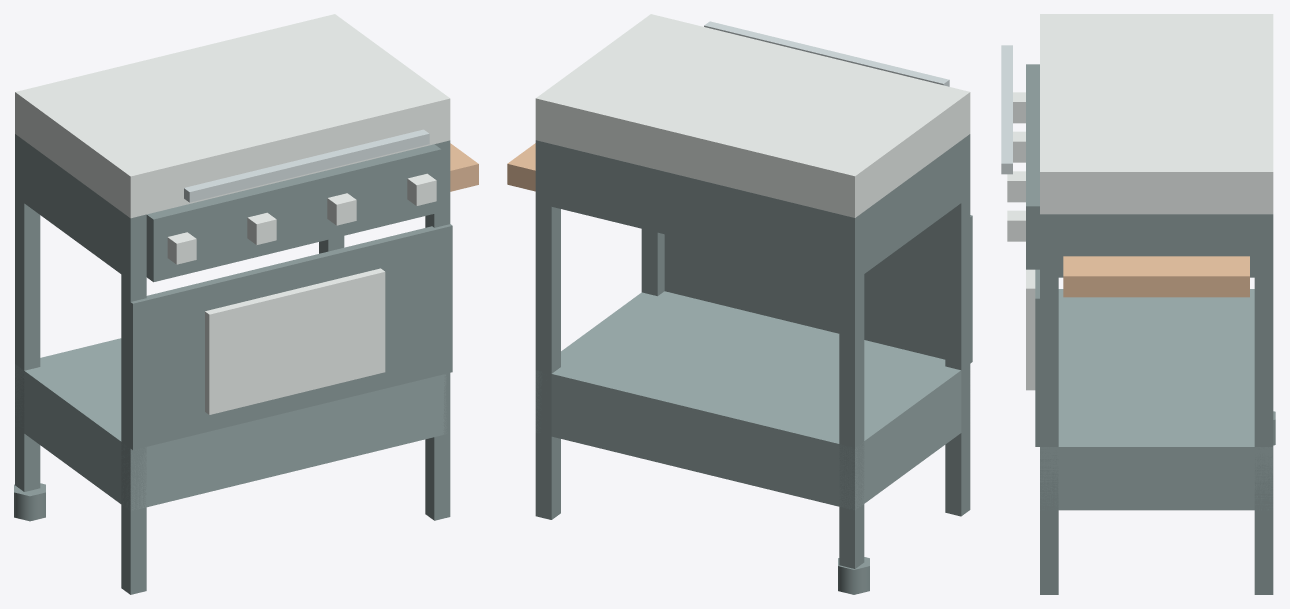
Rendered from gasGrill.glb.
3 renders of one model, left to right at view 1: azimuth 30°, elevation 25°; view 2: azimuth 150°, elevation 25°; view 3: azimuth 270°, elevation 25°, orthographic.
Visible parts, largest first — view 1: gasGrill; view 2: gasGrill; view 3: gasGrill.
Boxes of the visible parts, x1,y1,x2,y2 form: gasGrill: (14,14,478,594); gasGrill: (507,14,972,594); gasGrill: (1001,14,1275,594).
Bounding box in the file's own units: 0.46 × 0.5 × 0.2936.
